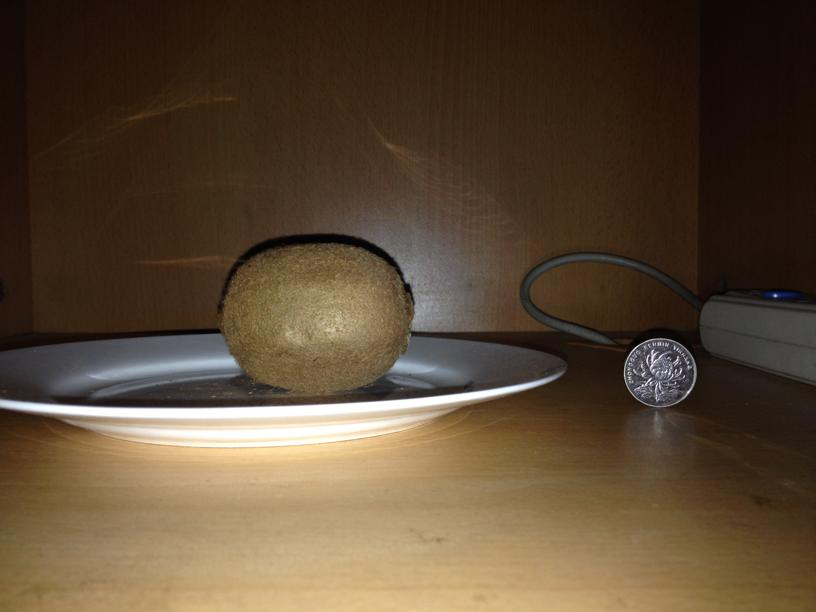coin: (624, 340, 698, 406)
qiwi: (216, 243, 415, 389)
